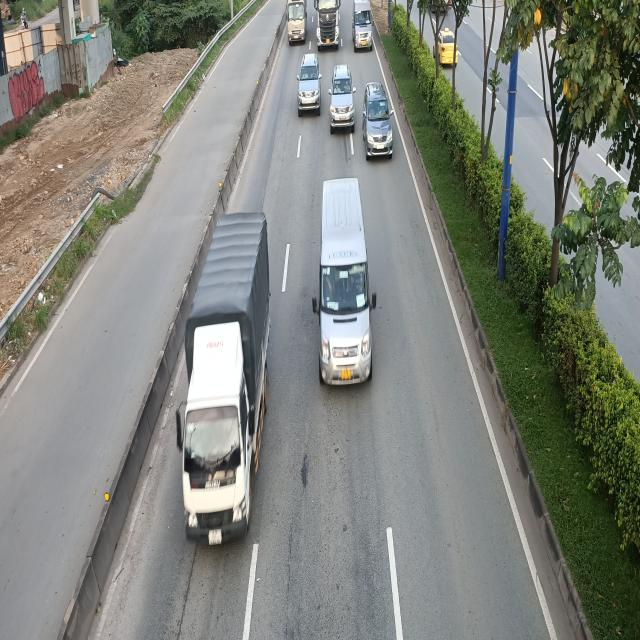car: (361, 80, 394, 158), (294, 52, 320, 116)
coach: (284, 0, 306, 43)
container: (313, 0, 341, 49)
truck: (179, 216, 276, 548)
van: (312, 180, 378, 386), (330, 64, 357, 134), (351, 0, 374, 51)
